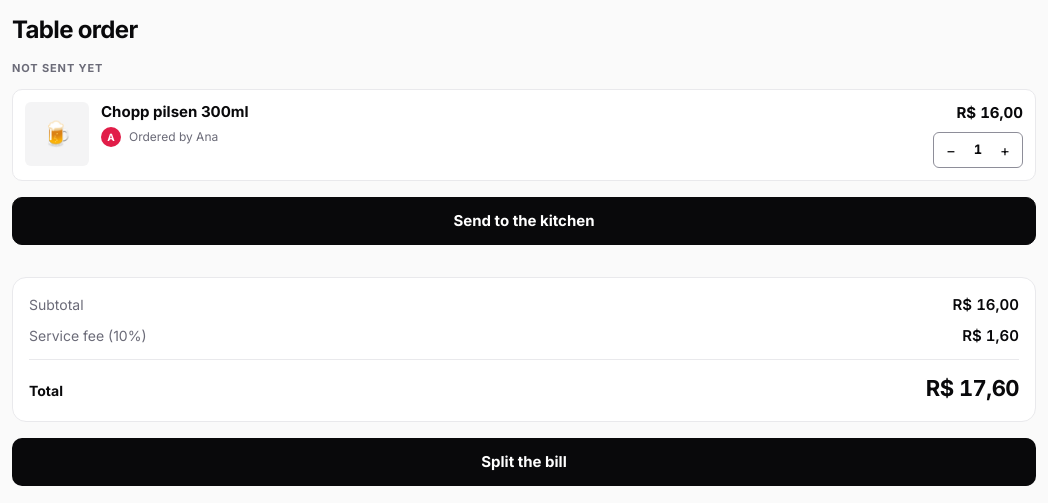
Test: OrderPage › raises and lowers the quantity of a line that has not been sent
Click the button named "Increase quantity" at (1005, 150), box [988,133,1022,167]
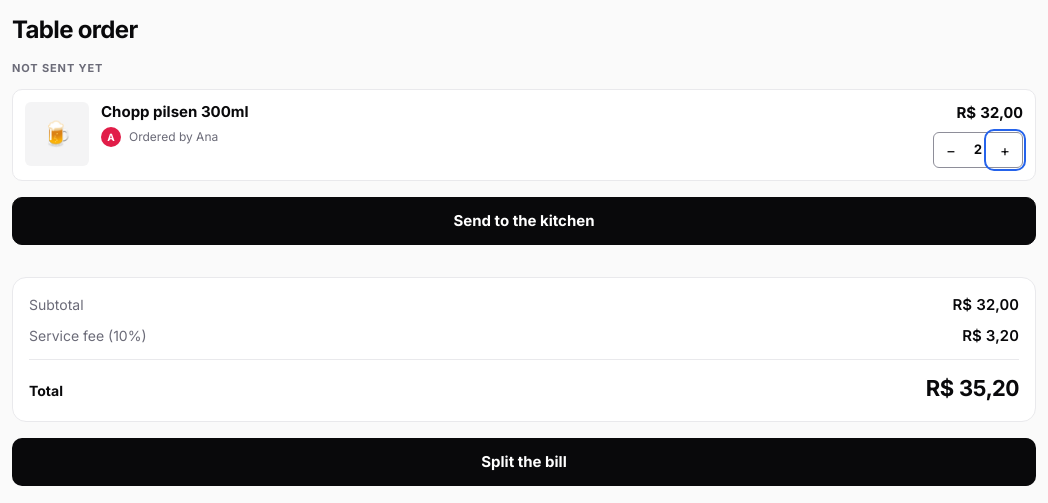
Check: the text "R$ 32,00" in the row of "Chopp pilsen 300ml" is shown, box [956,102,1023,122]
Click the button named "Decrease quantity" at (951, 150), box [934,133,968,167]
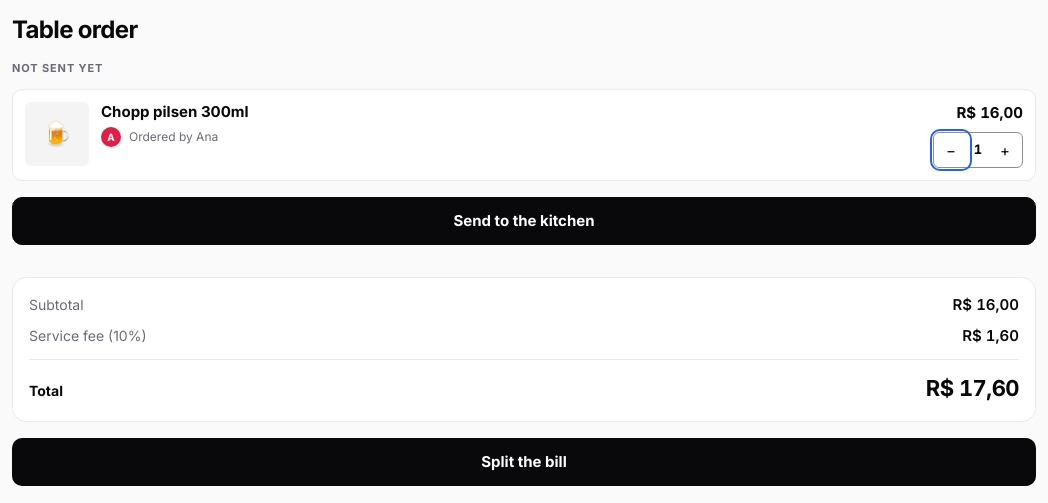
Check: the text "R$ 16,00" in the row of "Chopp pilsen 300ml" is shown, box [956,102,1023,122]
